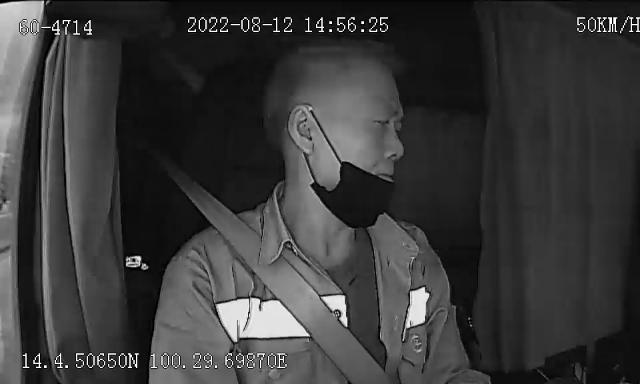Seatbelt: (178, 178, 386, 384)
